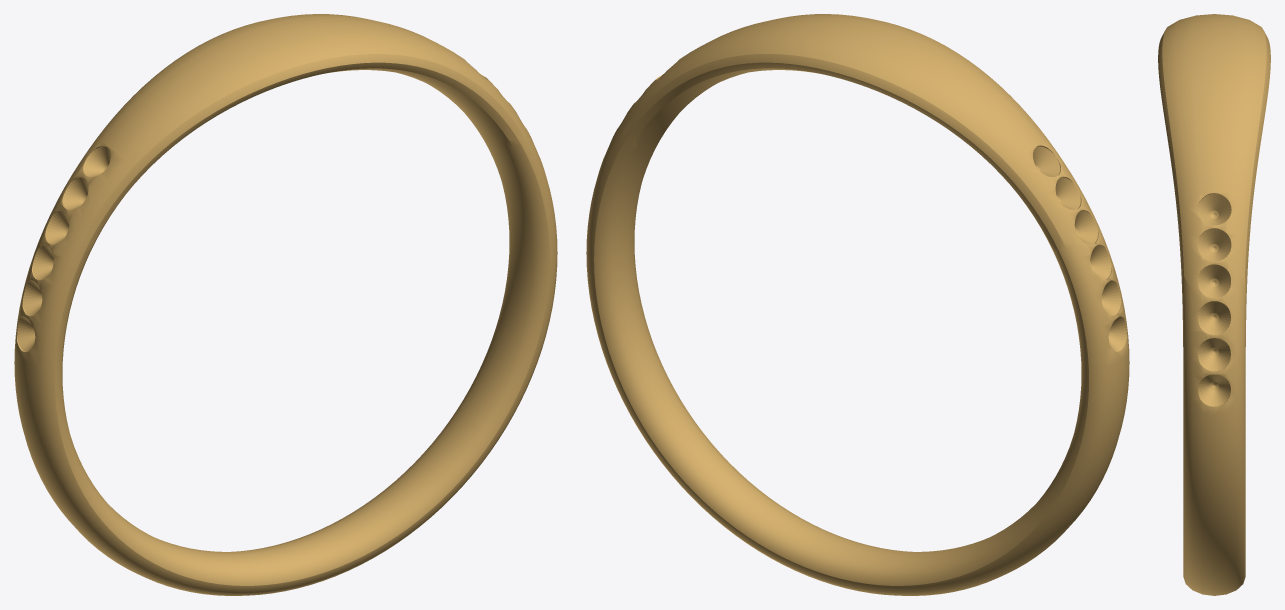
Rendered from reverse-tapered-micro-pave-head.glb.
3 views of the same model, side by side, from view 1: azimuth 30°, elevation 25°; view 2: azimuth 150°, elevation 25°; view 3: azimuth 270°, elevation 25° (orthographic). The views are drawn at different scales.
Parts seen in each view (by area): view 1: Band; view 2: Band; view 3: Band.
Part boxes in pixels (<box>): Band: <box>14,14,557,595</box>; Band: <box>586,14,1129,595</box>; Band: <box>1158,14,1270,595</box>.
Size of the model in its own units: 19.6 by 19.6 by 3.8.
